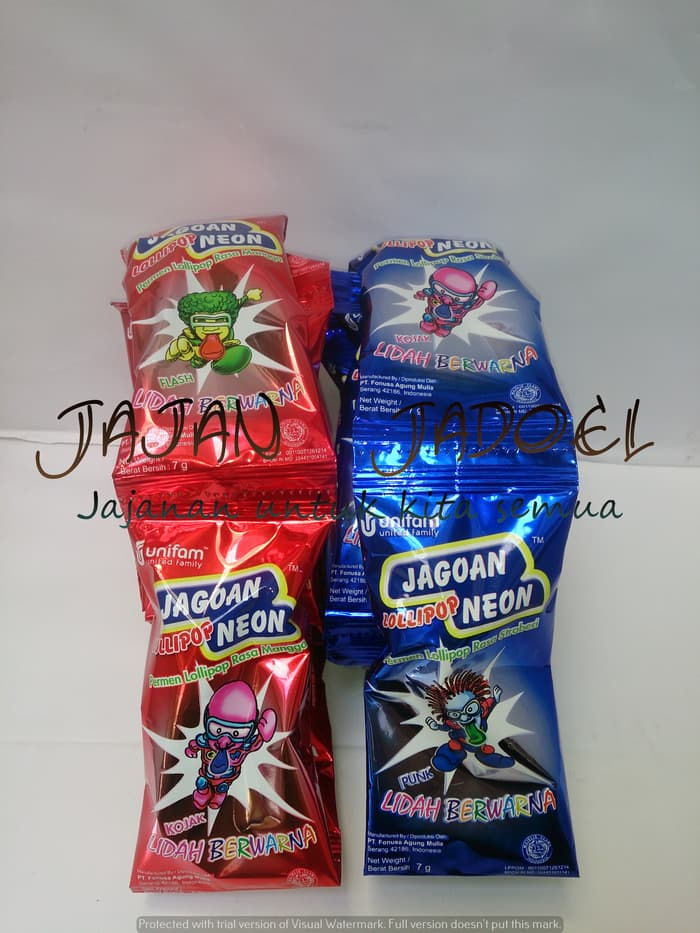jagoan_neon: (356, 466, 579, 878), (121, 487, 340, 889), (111, 213, 335, 507), (353, 239, 581, 485)
